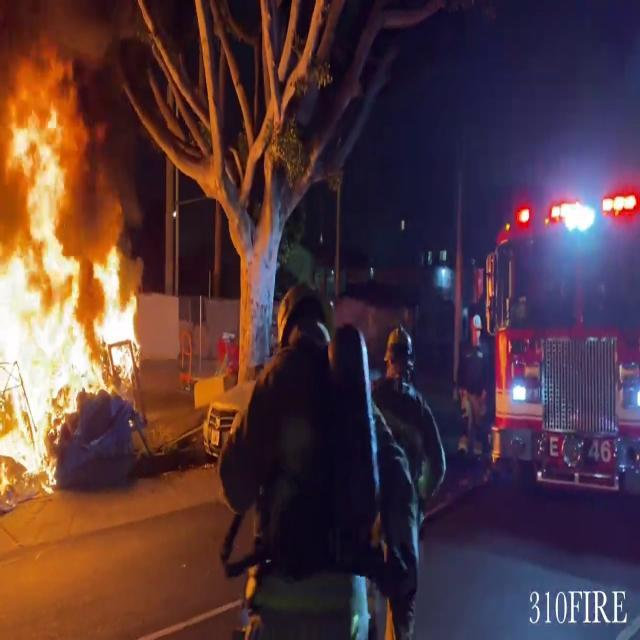Fire: (0, 39, 146, 492)
